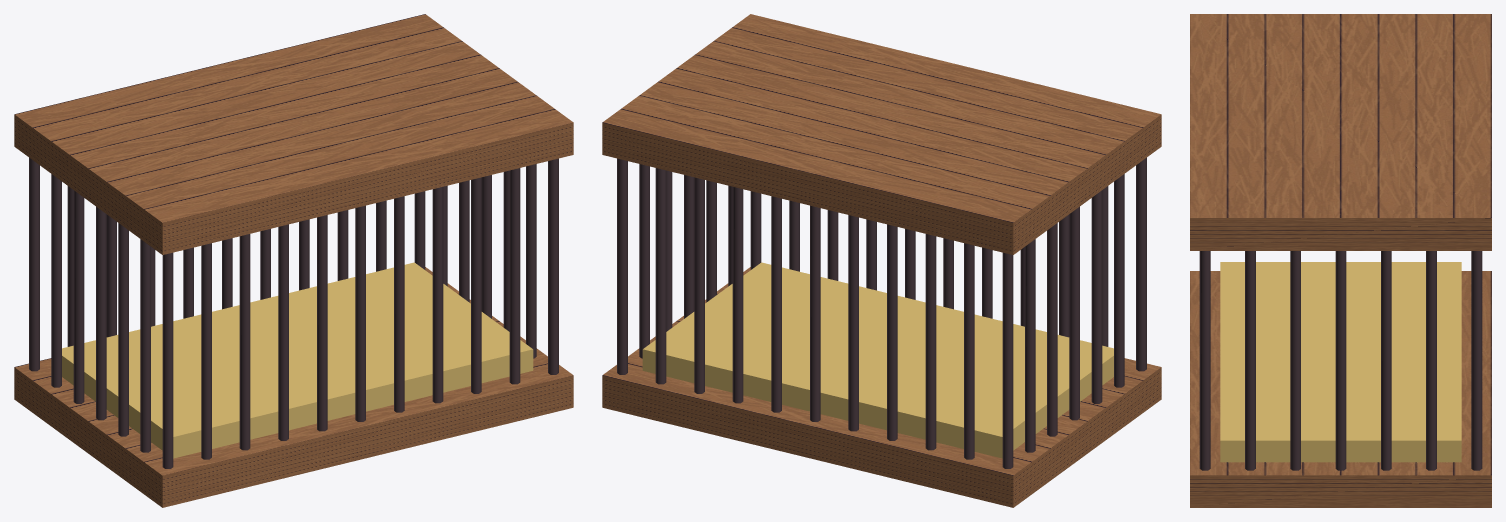
Rendered from gaiola.glb.
The picture shows the model from 3 angles, left to right: view 1: azimuth 30°, elevation 25°; view 2: azimuth 150°, elevation 25°; view 3: azimuth 270°, elevation 25°; orthographic projection.
Size of the model in its own units: 1.6 by 1.06 by 1.
Materials: 3 (1 with a texture image).
